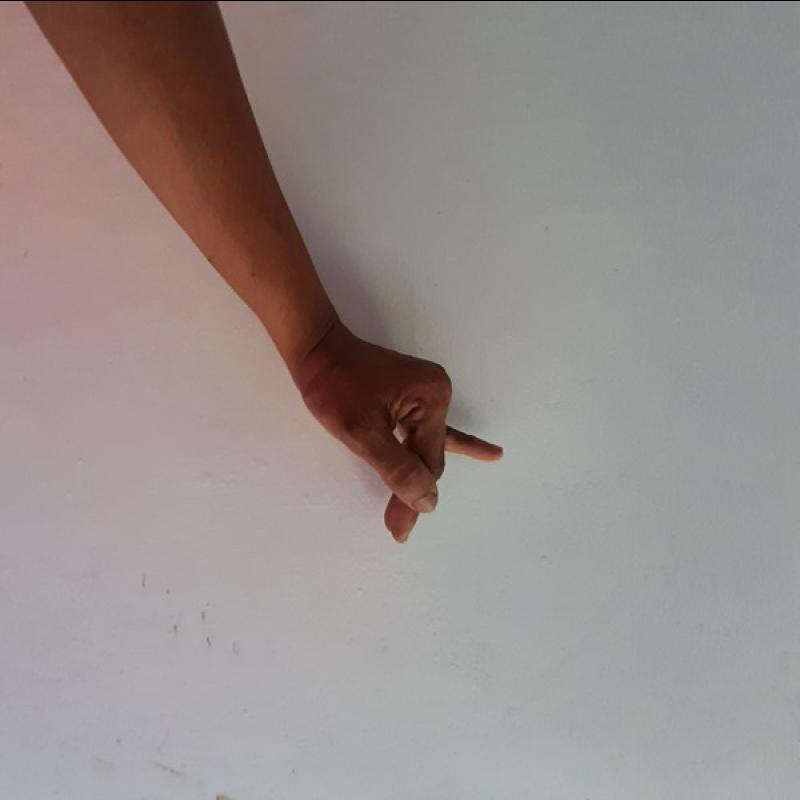Kartharee Mukham: (292, 330, 517, 551)
